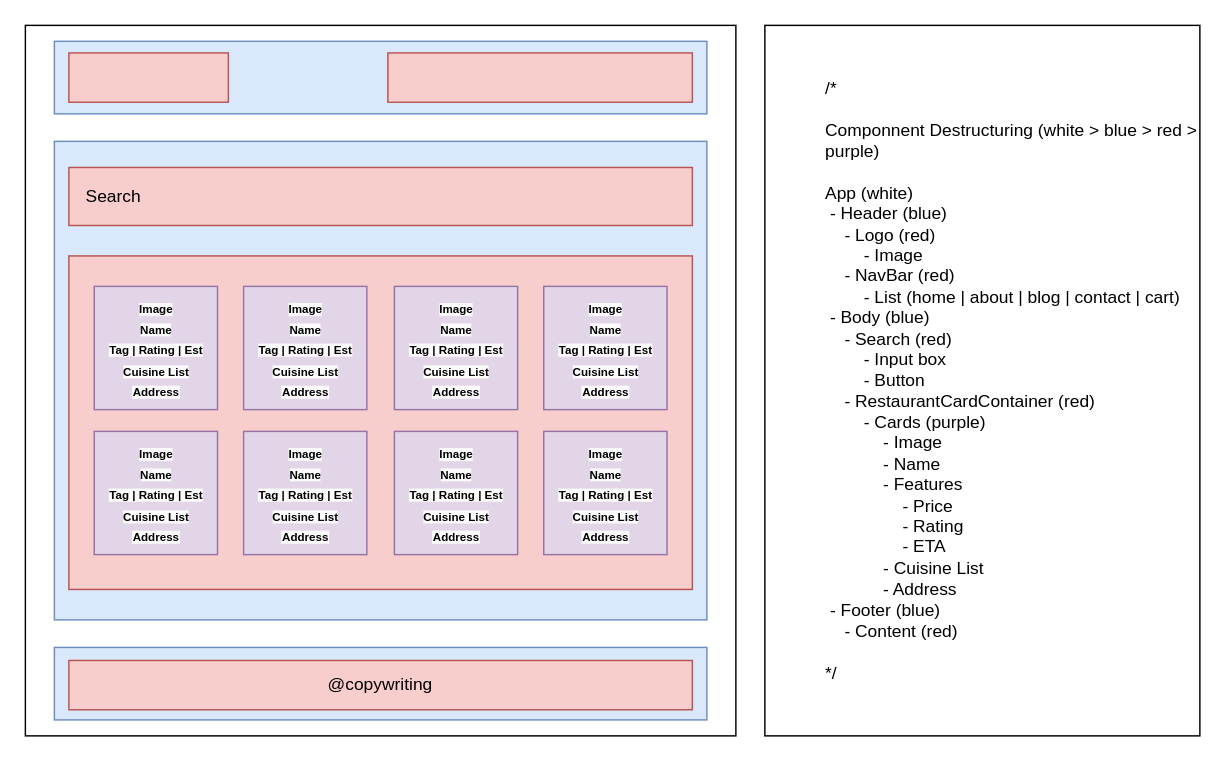
This 1225x761 diagram has some shape labels left out. The centre of each missing label's shape, as x and y in pixels:
"Home | About | Contact | Blog | Cart" goes at point (539, 76).
"Logo" goes at point (147, 76).
